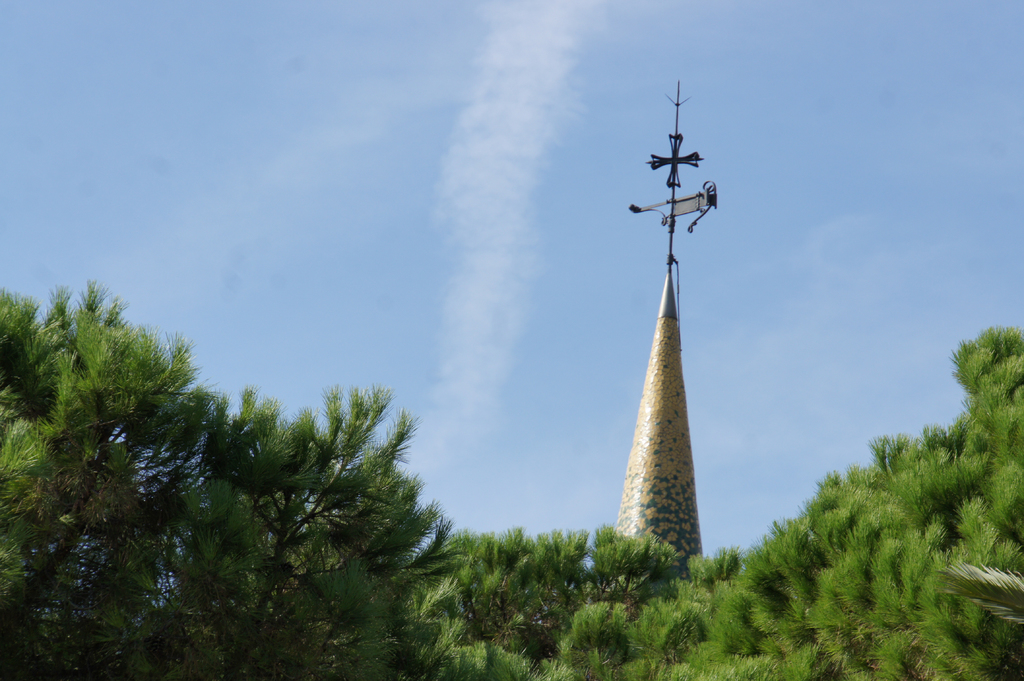Tree: (421, 327, 1023, 680), (0, 277, 231, 680), (233, 384, 421, 679)
